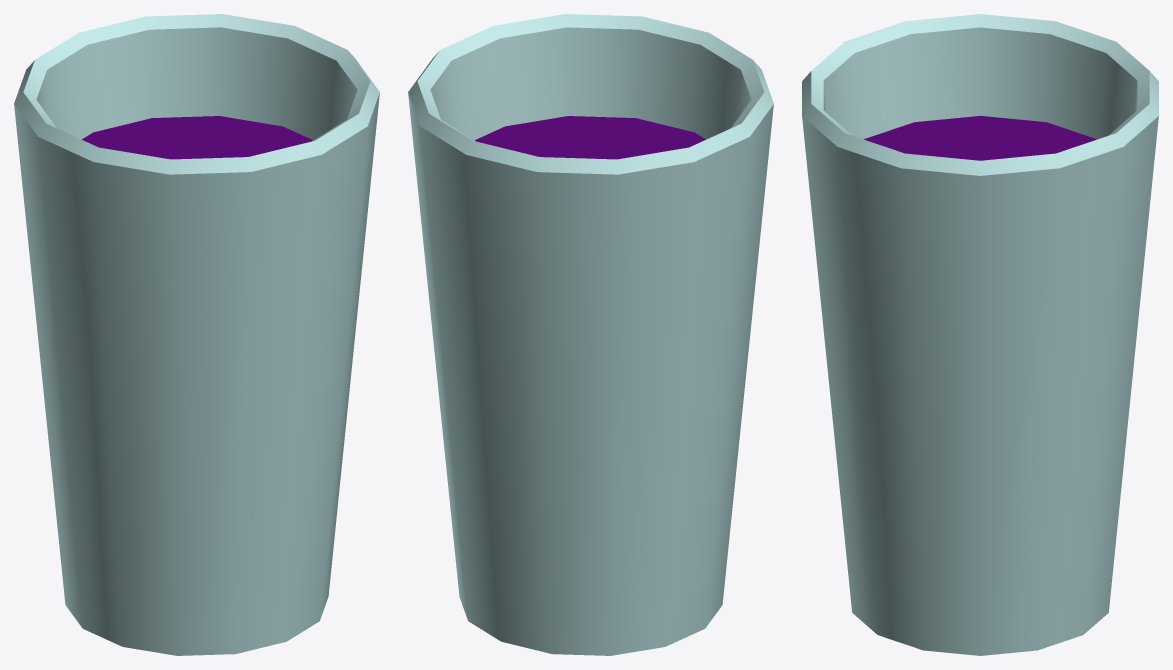
Rendered from prop_vaso_uva.fbx.
3 views of the same model, side by side, from view 1: azimuth 30°, elevation 25°; view 2: azimuth 150°, elevation 25°; view 3: azimuth 270°, elevation 25° (orthographic).
Parts seen in each view (by area): view 1: pCylinder3, pCylinder4; view 2: pCylinder3, pCylinder4; view 3: pCylinder3, pCylinder4.
Part boxes in pixels (x1,y1,x2,y2): pCylinder3: (14,14,379,655); pCylinder4: (82,116,312,159); pCylinder3: (408,14,773,655); pCylinder4: (475,116,705,159); pCylinder3: (802,14,1158,655); pCylinder4: (864,116,1096,160).
Bounding box in the file's own units: 1.74 × 2.69 × 1.69.
